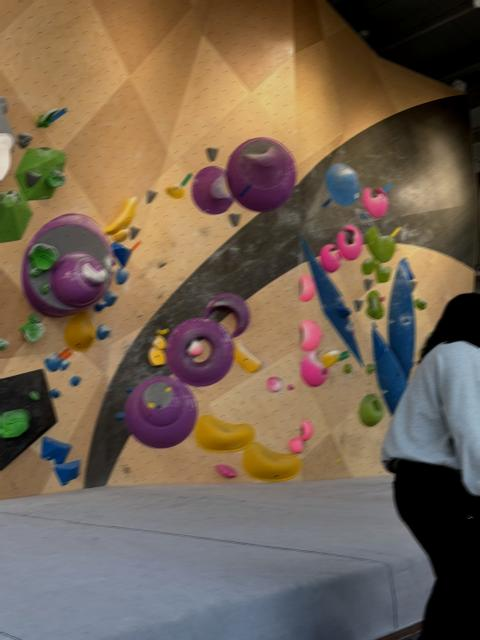crimp: (156, 328, 169, 333), (39, 147, 50, 149)
downhold: (26, 170, 41, 187), (17, 132, 32, 148), (206, 147, 218, 161), (230, 212, 241, 226), (146, 189, 157, 203), (130, 226, 140, 239), (354, 299, 364, 311), (351, 208, 361, 218), (364, 279, 373, 290), (410, 280, 417, 291), (366, 282, 368, 283), (357, 304, 358, 304)
jib: (70, 375, 80, 386), (51, 388, 60, 398), (30, 391, 39, 399), (116, 412, 124, 419), (335, 457, 342, 463), (147, 402, 154, 408), (126, 386, 133, 392), (165, 386, 172, 391), (155, 404, 162, 408)
jug: (239, 144, 286, 188), (104, 196, 137, 234), (233, 339, 261, 372), (20, 320, 47, 343), (46, 169, 66, 187), (374, 262, 391, 282), (37, 109, 57, 126), (322, 350, 340, 367), (44, 352, 60, 371), (165, 183, 184, 198), (361, 256, 376, 274), (188, 339, 203, 356), (115, 267, 129, 283), (103, 290, 117, 306), (96, 323, 110, 339), (113, 228, 129, 242), (153, 335, 166, 348), (94, 300, 106, 312), (414, 298, 427, 309)
ledge: (193, 414, 255, 452), (241, 442, 301, 481), (64, 310, 95, 350), (365, 226, 396, 262), (300, 351, 329, 386), (358, 393, 384, 426), (337, 225, 362, 259), (41, 436, 71, 464), (362, 187, 388, 218), (53, 459, 80, 485), (320, 244, 342, 272), (111, 242, 132, 267), (215, 464, 236, 476)
pocket: (364, 363, 375, 374), (343, 364, 352, 374)
sidepull: (388, 260, 416, 379), (371, 328, 407, 414), (191, 166, 234, 214), (300, 319, 321, 351), (366, 290, 384, 319), (300, 274, 315, 301), (301, 420, 313, 441)
sloper: (325, 163, 360, 206), (0, 408, 30, 438)
tape: (50, 108, 66, 122), (180, 172, 192, 186), (240, 183, 252, 197), (58, 348, 72, 359), (323, 196, 333, 208), (339, 349, 349, 361), (131, 240, 141, 251), (390, 226, 400, 236), (384, 182, 392, 192)
undercling: (204, 292, 250, 337), (148, 346, 166, 365), (266, 376, 282, 391)
volume: (22, 212, 114, 316), (301, 238, 363, 366), (0, 369, 57, 470), (125, 376, 197, 448), (226, 138, 296, 211), (15, 148, 66, 199), (0, 188, 32, 241)
